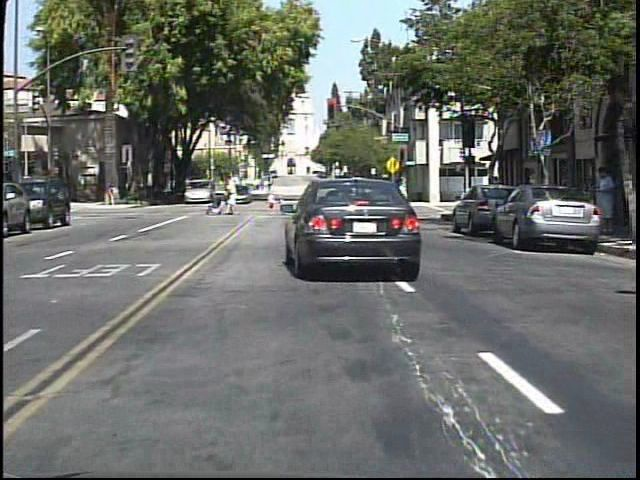person: (593, 162, 619, 221), (222, 172, 244, 216), (106, 181, 120, 207), (135, 176, 136, 206)
